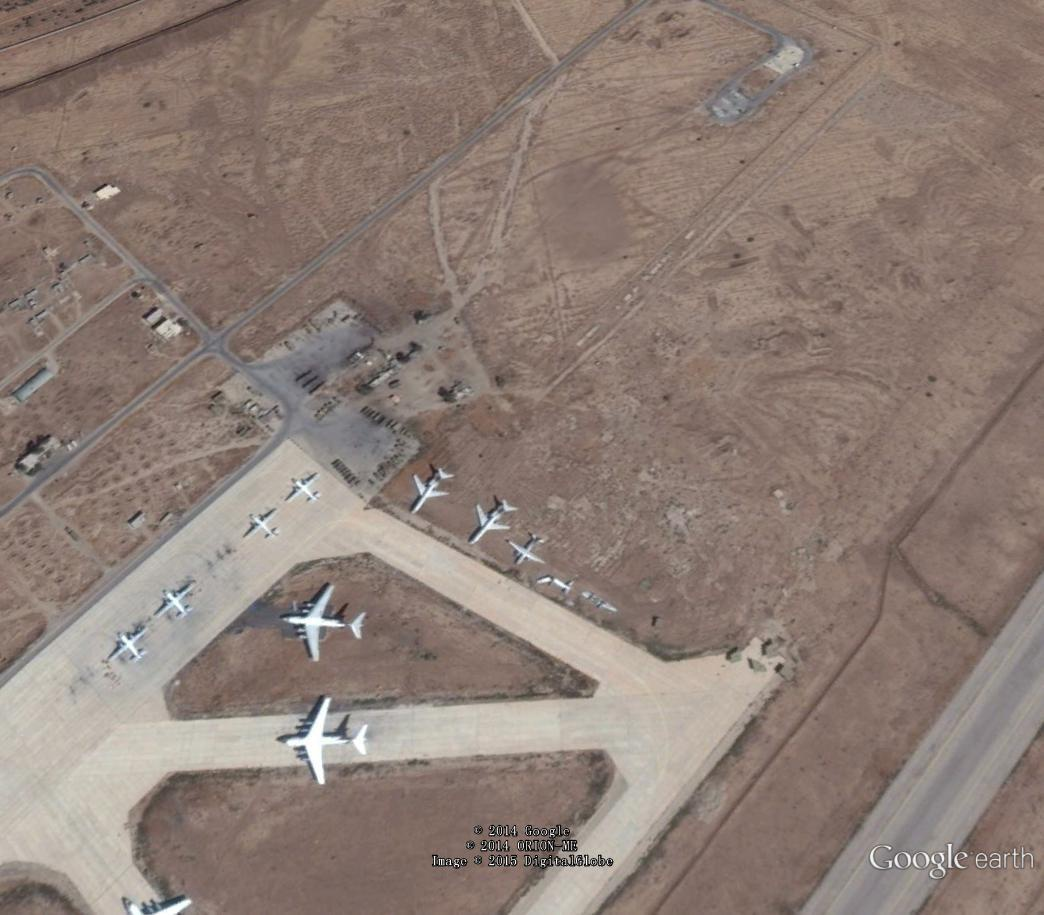aircraft: (274, 693, 376, 790), (280, 576, 370, 673), (406, 459, 460, 517), (463, 495, 520, 547), (151, 580, 207, 624), (105, 624, 154, 669), (505, 528, 553, 570), (283, 469, 327, 510), (240, 507, 288, 544)
